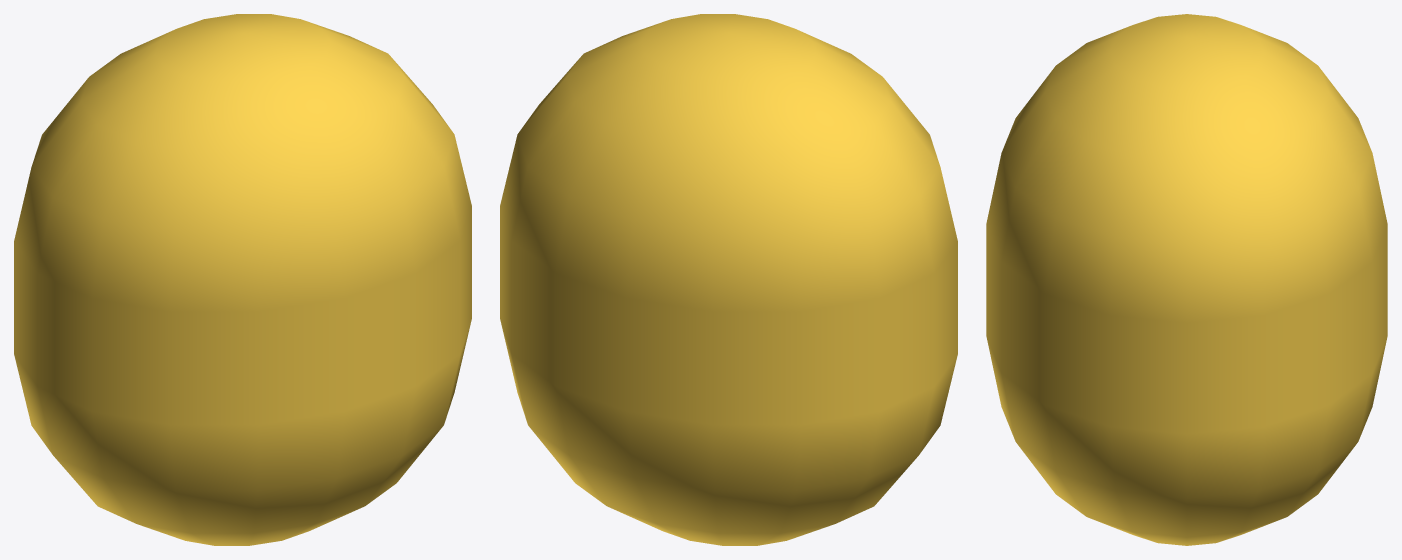
Rendered from torso.glb.
3 renders of one model, left to right at view 1: azimuth 30°, elevation 25°; view 2: azimuth 150°, elevation 25°; view 3: azimuth 270°, elevation 25°, orthographic.
Visible parts, largest first — view 1: Torso_Body; view 2: Torso_Body; view 3: Torso_Body.
Part boxes in pixels (bbox=[...]): Torso_Body: bbox=[14, 14, 471, 545]; Torso_Body: bbox=[500, 14, 957, 545]; Torso_Body: bbox=[986, 14, 1387, 545].
Bounding box in the file's own units: 0.2378 × 0.2728 × 0.2047.
